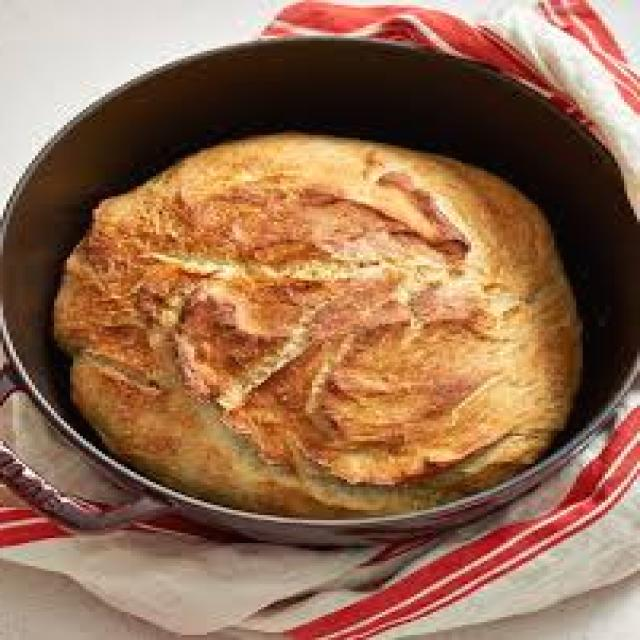wet: (152, 125, 532, 479)
